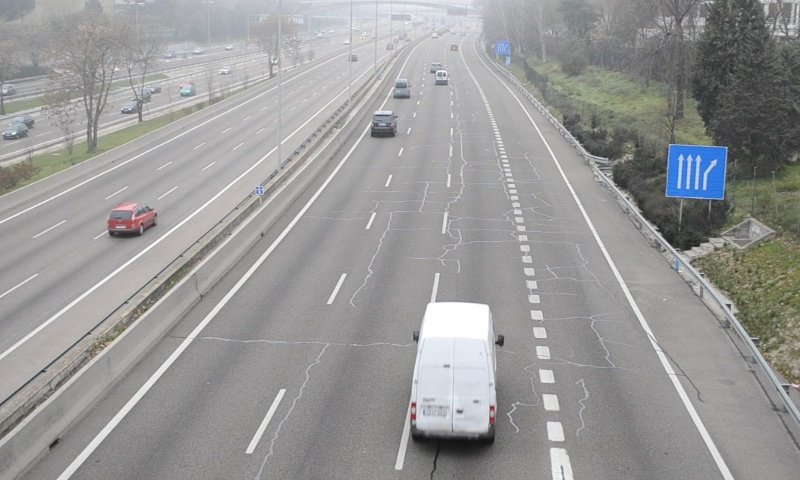car: (370, 110, 396, 136)
van: (408, 302, 498, 445), (393, 78, 410, 98)
